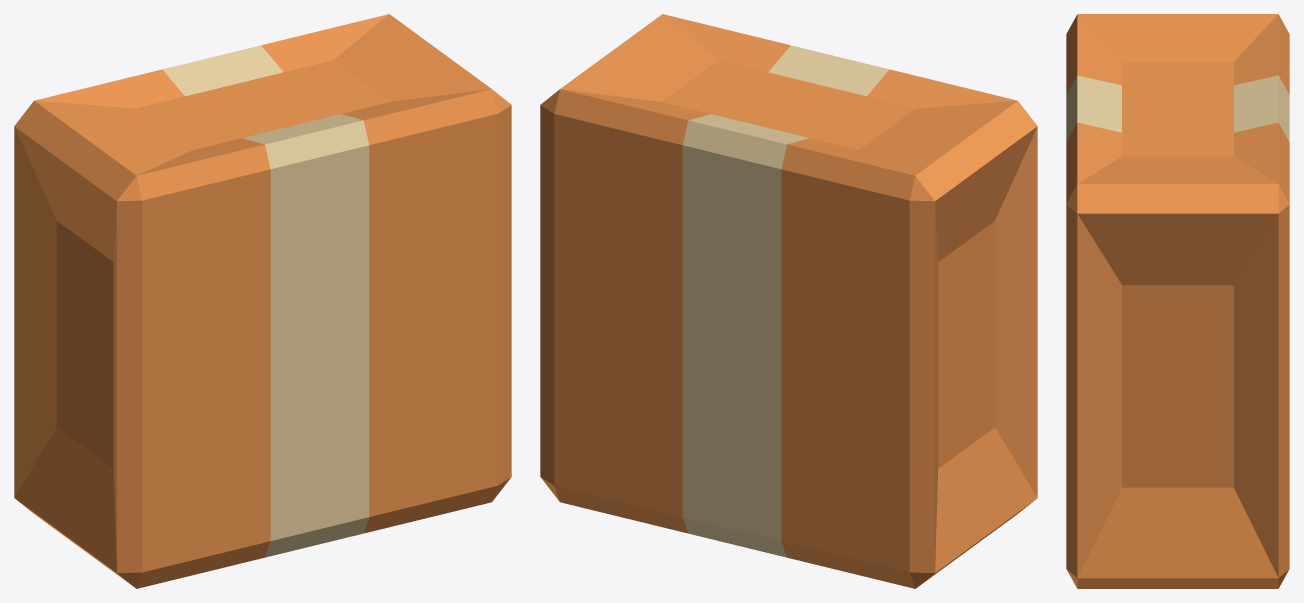
Rendered from SM_CardBoxC.glb.
The picture shows the model from 3 angles, left to right: view 1: azimuth 30°, elevation 25°; view 2: azimuth 150°, elevation 25°; view 3: azimuth 270°, elevation 25°; orthographic projection. The views are drawn at different scales.
Visible parts, largest first — view 1: part_00, part_01; view 2: part_00, part_01; view 3: part_00, part_01.
Part boxes in pixels (bbox=[...]): part_00: bbox=[14, 14, 511, 588]; part_01: bbox=[162, 45, 369, 557]; part_00: bbox=[540, 14, 1037, 588]; part_01: bbox=[682, 45, 889, 557]; part_00: bbox=[1066, 14, 1289, 588]; part_01: bbox=[1066, 75, 1289, 141].
Size of the model in its own units: 0.5 by 0.5 by 0.25.
